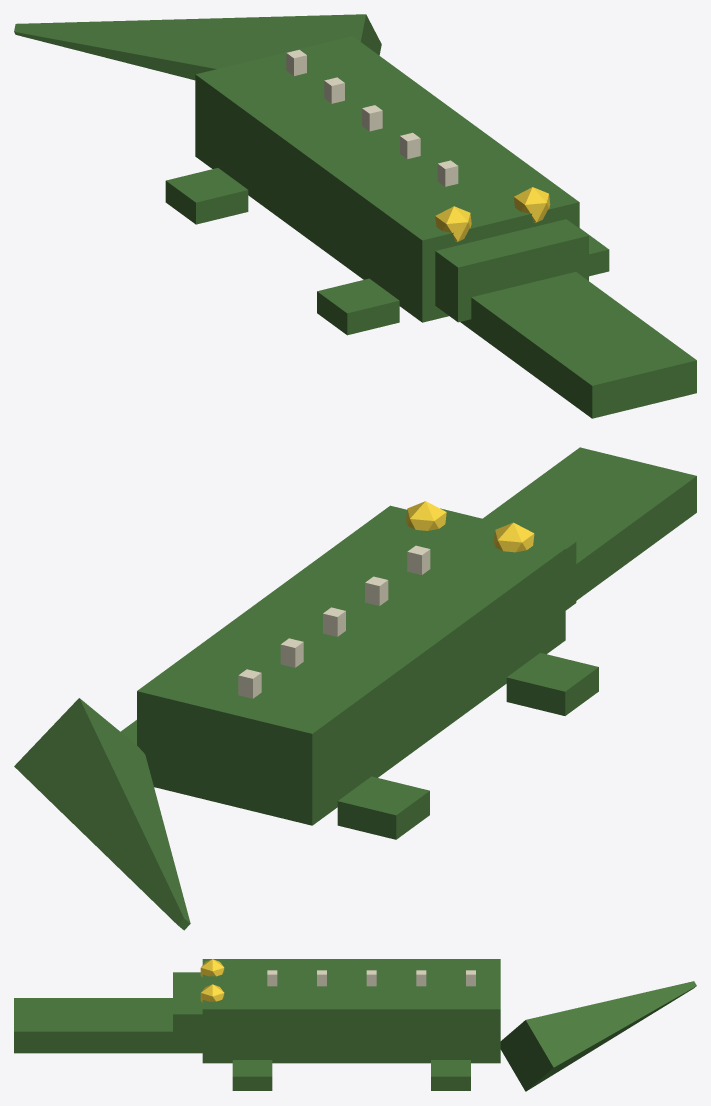
Rendered from crocodile.glb.
3 renders of one model, top to bottom at view 1: azimuth 30°, elevation 25°; view 2: azimuth 150°, elevation 25°; view 3: azimuth 270°, elevation 25°, orthographic. The views are drawn at different scales.
Parts seen in each view (by area): view 1: crocodile; view 2: crocodile; view 3: crocodile.
Boxes of the visible parts, left/top/right/bottom form: crocodile: left=14, top=14, right=696, bottom=418; crocodile: left=14, top=447, right=696, bottom=930; crocodile: left=14, top=959, right=696, bottom=1091.
Bounding box in the file's own units: 1.07 × 0.47 × 3.44.
